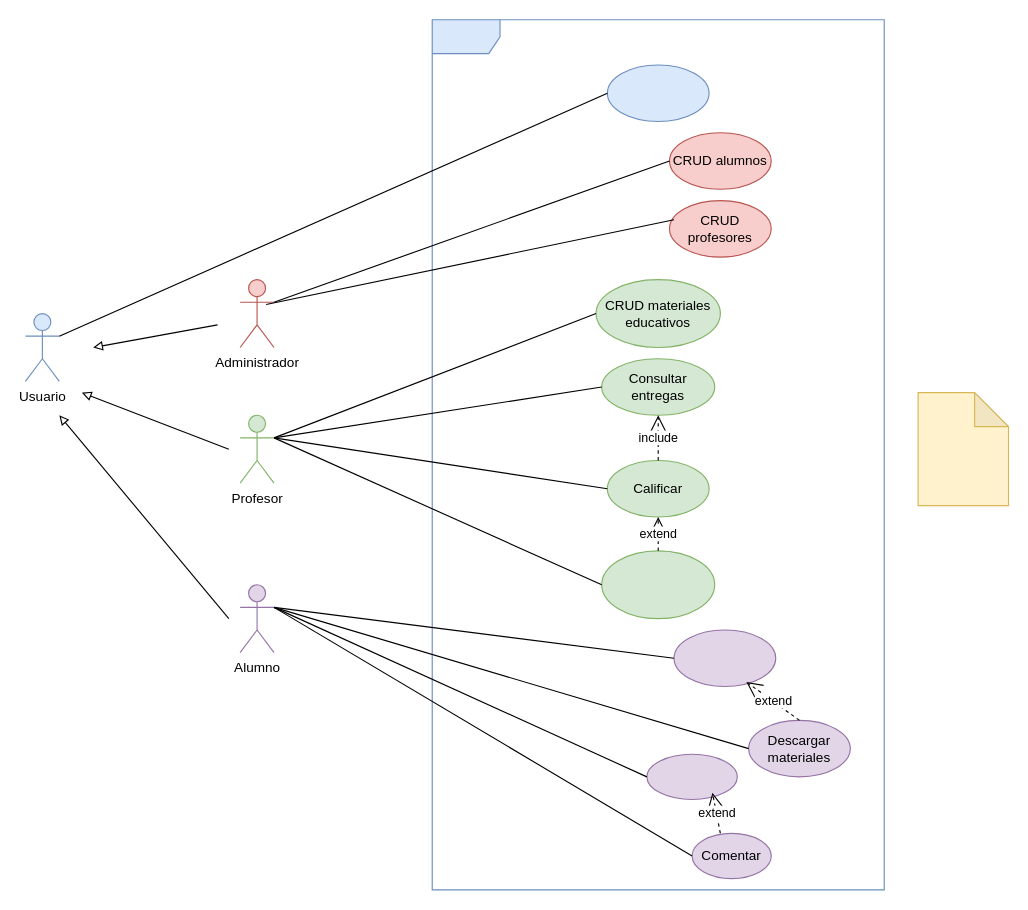
The diagram is 1028 pixels wide and 910 high, and some of its shapes have lost their labels. The shapes that lost their labels are listed below. From the top down, each one's box as (x1, y1, x2, y2) in pixels, then its label:
(606, 64, 709, 121): Login
(431, 19, 884, 890): plataforma educativa
(917, 392, 1009, 506): Para todos los casos de uso es obligatorio logearse primero
(601, 550, 715, 619): Comentar entrega
(673, 629, 776, 686): Consultar materiales
(646, 753, 737, 799): Subir trabajo
